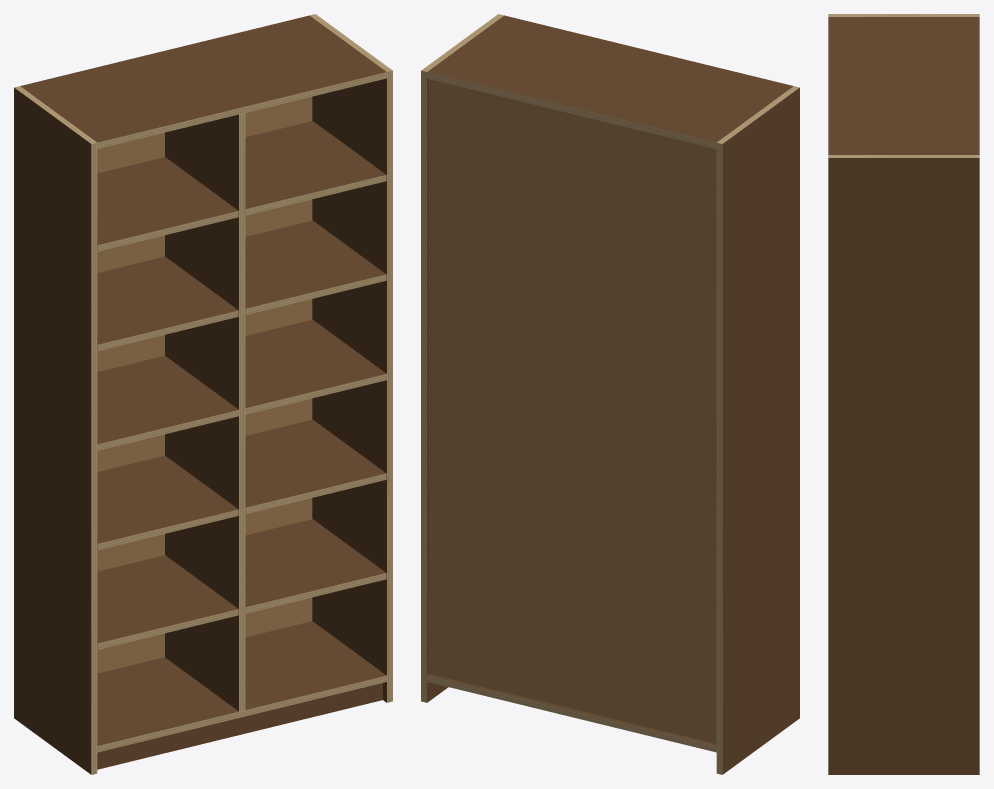
The model's file is SAB-UTL-std.glb.
The picture shows the model from 3 angles, left to right: view 1: azimuth 30°, elevation 25°; view 2: azimuth 150°, elevation 25°; view 3: azimuth 270°, elevation 25°; orthographic projection. The views are drawn at different scales.
Visible parts, largest first — view 1: side-l:pbr, side-r:pbr, partition:pbr, top:pbr, back:sheet:eyJtIjoibWRmIiwic2lkZSI6ImZhY2UiLCJzZWVkIjo0LCJ0a, bottom:pbr, shelf-fixedl:pbr, shelf-fixedr:pbr, shelf-5:pbr, shelf-1:pbr, shelf-3:pbr, shelf-7:pbr (+20 smaller); view 2: back:sheet:eyJtIjoibWRmIiwic2lkZSI6ImZhY2UiLCJzZWVkIjo0LCJ0a, side-l:pbr, top:pbr, side-l:sheet:eyJtIjoicGx5Iiwic2lkZSI6ImVkZ2UtbG9uZyIsInNlZWQ, side-r:sheet:eyJtIjoicGx5Iiwic2lkZSI6ImVkZ2UtbG9uZyIsInNlZWQ, side-r:pbr, top:sheet:eyJtIjoicGx5Iiwic2lkZSI6ImVkZ2UtbG9uZyIsInNlZWQiOj, bottom:sheet:eyJtIjoicGx5Iiwic2lkZSI6ImVkZ2UtbG9uZyIsInNlZWQ, bottom:pbr; view 3: side-r:pbr, top:pbr, side-l:sheet:eyJtIjoicGx5Iiwic2lkZSI6ImVkZ2UtZW5kIiwic2VlZCI, side-r:sheet:eyJtIjoicGx5Iiwic2lkZSI6ImVkZ2UtZW5kIiwic2VlZCI.
Part boxes in pixels (bbox=[...]): side-l:pbr: bbox=[14, 87, 91, 774]; side-r:pbr: bbox=[312, 78, 386, 702]; partition:pbr: bbox=[165, 114, 238, 710]; top:pbr: bbox=[20, 15, 386, 142]; back:sheet:eyJtIjoibWRmIiwic2lkZSI6ImZhY2UiLCJzZWVkIjo0LCJ0a: bbox=[97, 96, 312, 673]; bottom:pbr: bbox=[97, 621, 386, 745]; shelf-fixedl:pbr: bbox=[97, 355, 238, 444]; shelf-fixedr:pbr: bbox=[245, 319, 386, 408]; shelf-5:pbr: bbox=[97, 256, 238, 344]; shelf-1:pbr: bbox=[97, 555, 238, 643]; shelf-3:pbr: bbox=[97, 455, 238, 543]; shelf-7:pbr: bbox=[97, 157, 238, 244]; back:sheet:eyJtIjoibWRmIiwic2lkZSI6ImZhY2UiLCJzZWVkIjo0LCJ0a: bbox=[429, 79, 716, 743]; side-l:pbr: bbox=[722, 87, 799, 774]; top:pbr: bbox=[427, 15, 793, 142]; side-l:sheet:eyJtIjoicGx5Iiwic2lkZSI6ImVkZ2UtbG9uZyIsInNlZWQ: bbox=[716, 143, 722, 774]; side-r:sheet:eyJtIjoicGx5Iiwic2lkZSI6ImVkZ2UtbG9uZyIsInNlZWQ: bbox=[421, 70, 426, 702]; side-r:pbr: bbox=[427, 78, 448, 702]; top:sheet:eyJtIjoicGx5Iiwic2lkZSI6ImVkZ2UtbG9uZyIsInNlZWQiOj: bbox=[427, 72, 716, 148]; bottom:sheet:eyJtIjoicGx5Iiwic2lkZSI6ImVkZ2UtbG9uZyIsInNlZWQ: bbox=[427, 675, 716, 752]; bottom:pbr: bbox=[427, 674, 716, 745]; side-r:pbr: bbox=[828, 158, 979, 774]; top:pbr: bbox=[828, 17, 979, 154]; side-l:sheet:eyJtIjoicGx5Iiwic2lkZSI6ImVkZ2UtZW5kIiwic2VlZCI: bbox=[828, 14, 979, 16]; side-r:sheet:eyJtIjoicGx5Iiwic2lkZSI6ImVkZ2UtZW5kIiwic2VlZCI: bbox=[828, 155, 979, 157].
Bounding box in the file's own units: 0.9 × 1.8 × 0.4.
51 materials, 35 textured.
